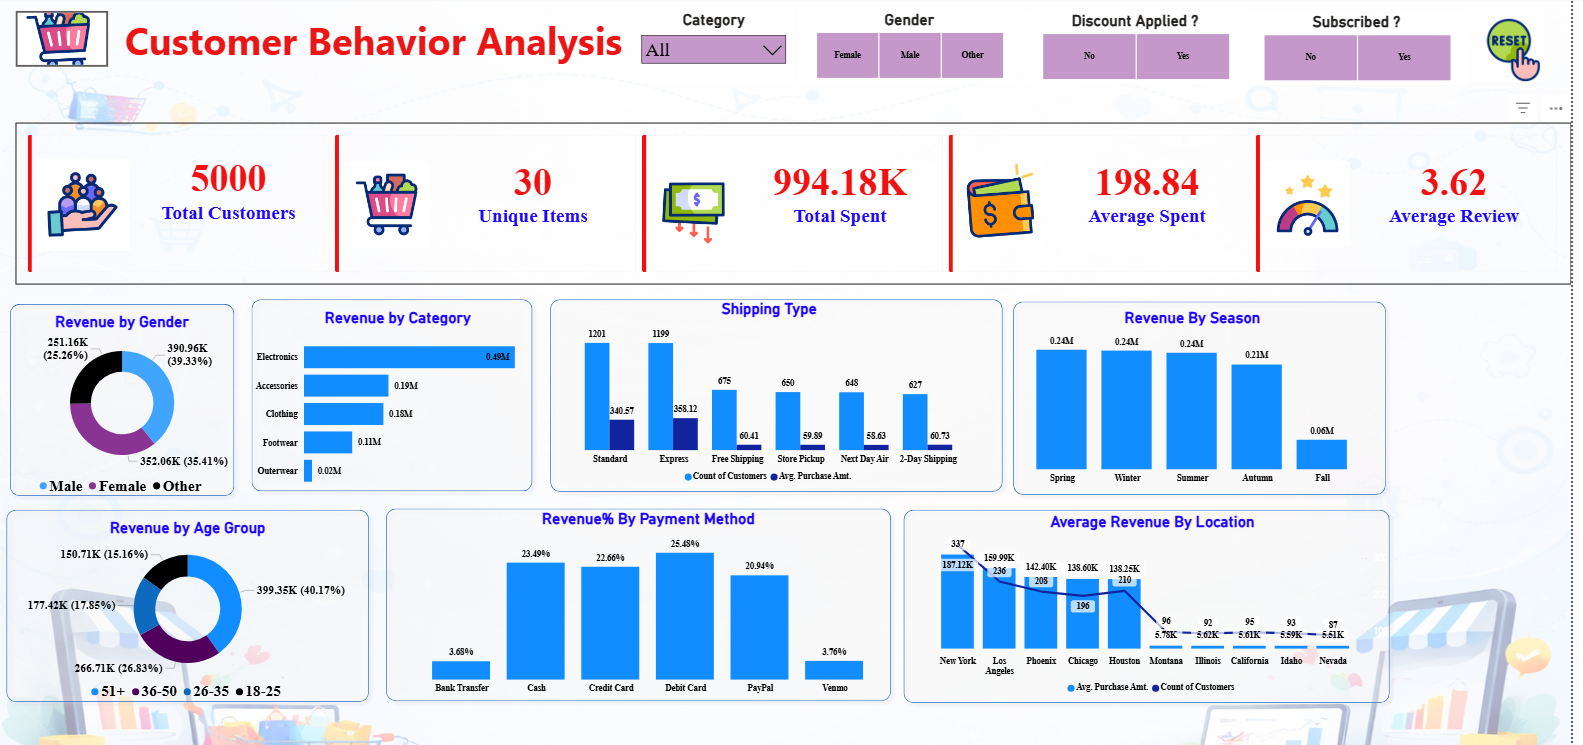

The page's visual inventory and layout, read from the dashboard file:
{"tool":"powerbi","page":{"name":"Customer Analysis Revenue","canvas":[2200,1200],"ordinal":0},"visuals":[{"type":"cardVisual","fields":{"Data":["retail_cleaned.Total Customers","retail_cleaned.Unique Items","retail_cleaned.Total_Spent","retail_cleaned.Average_Spent","retail_cleaned.Average_Review"]},"box":[21.4,171.4,2178.6,227.1],"z":0},{"type":"shape","box":[762,409.6,651.5,287.7],"z":0,"group":"g3"},{"type":"shape","box":[342.9,409.7,411.2,287],"z":0,"group":"g2"},{"type":"shape","box":[5,416.7,332,287],"z":0,"group":"g1"},{"type":"shape","box":[531.5,703,725.2,287.7],"z":0,"group":"g7"},{"type":"shape","box":[1257.3,704.9,698.6,288.6],"z":0,"group":"g8"},{"type":"shape","box":[0,705,525.7,287.1],"z":0,"group":"g6"},{"type":"group","id":"g1","title":"Group 1","box":[5,416.7,331.7,288.3],"z":1000},{"type":"group","id":"g2","title":"Group 2","box":[342.9,409.7,420,287],"z":2000},{"type":"clusteredColumnChart","title":"Shipping Type","fields":{"Category":["retail_cleaned.shipping_type"],"Y":["Count(retail_cleaned.customer_id)","Avg(retail_cleaned.purchase_amount)"]},"box":[778.6,419.6,598,266.4],"z":2000,"group":"g3"},{"type":"donutChart","title":"Revenue by Gender","fields":{"Category":["retail_cleaned.gender"],"Y":["Sum(retail_cleaned.purchase_amount)"]},"box":[5,438.7,332,265],"z":2000,"group":"g1"},{"type":"clusteredColumnChart","title":"Revenue% By Payment Method","fields":{"Category":["retail_cleaned.payment_method"],"Y":["Sum(retail_cleaned.purchase_amount)"]},"box":[557.7,713.6,699.6,266.4],"z":2000,"group":"g7"},{"type":"lineClusteredColumnComboChart","title":"Average Revenue By Location","fields":{"Category":["retail_cleaned.location"],"Y":["Sum(retail_cleaned.purchase_amount)"],"Y2":["CountNonNull(retail_cleaned.customer_id)"]},"box":[1281.9,718.5,665,264],"z":2000,"group":"g8"},{"type":"donutChart","title":"Revenue by Age Group","fields":{"Y":["Sum(retail_cleaned.purchase_amount)"],"Category":["retail_cleaned.Age_Group"]},"box":[0,727,525.7,265.1],"z":2000,"group":"g6"},{"type":"shape","box":[1409.7,413.4,540,288.6],"z":2500,"group":"g4"},{"type":"clusteredColumnChart","title":"Revenue By Season","fields":{"Category":["retail_cleaned.season"],"Y":["Sum(retail_cleaned.purchase_amount)"]},"box":[1409.7,431.7,520.3,253.5],"z":2750,"group":"g4"},{"type":"group","id":"g3","title":"Group 3","box":[762,409.6,651.5,287.7],"z":3000},{"type":"clusteredBarChart","title":"Revenue by Category","fields":{"Category":["retail_cleaned.category"],"Y":["Sum(retail_cleaned.purchase_amount)"]},"box":[351.7,431.7,411.2,265],"z":3000,"group":"g2"},{"type":"group","id":"g4","title":"Group 4","box":[1409.7,413.4,539.1,289.6],"z":4000},{"type":"group","id":"g5","title":"Group 1","box":[0,705,525,286.7],"z":5000},{"type":"group","id":"g6","title":"Group 5","box":[0,705,525.7,287.1],"z":5001,"group":"g5"},{"type":"group","id":"g7","title":"Group 3","box":[531.5,703,725.8,287.7],"z":6000},{"type":"group","id":"g8","title":"Group 3","box":[1257.3,704.9,697.2,289.6],"z":7000},{"type":"textbox","box":[170,15.7,724.3,124.3],"z":8000},{"type":"actionButton","box":[21.4,15.7,130,78.6],"z":9000},{"type":"slicer","title":"Category","fields":{"Values":["retail_cleaned.category"]},"box":[887.8,15.2,222.9,101],"z":10000},{"type":"slicer","title":"Gender","fields":{"Values":["retail_cleaned.gender"]},"box":[1118.3,15.2,310.5,101],"z":11000},{"type":"slicer","title":"Discount Applied ?","fields":{"Values":["retail_cleaned.discount_applied"]},"box":[1434.5,17.1,310.5,101],"z":12000},{"type":"slicer","title":"Subscribed ?","fields":{"Values":["retail_cleaned.subscription_status"]},"box":[1745,19.1,310.5,101],"z":13000},{"type":"actionButton","box":[2063.3,25,100,90],"z":14000}]}

Visuals, with their boxes on the page's 2200x1200 design canvas (x1, y1, x2, y2). These are canvas units, not pixel positions in the 1583x745 screenshot, which may show the page scaled, cropped or inside an application window:
cardVisual - retail_cleaned.Total Customers x retail_cleaned.Unique Items: detection(21, 171, 2200, 398)
shape: detection(762, 410, 1414, 697)
shape: detection(343, 410, 754, 697)
shape: detection(5, 417, 337, 704)
shape: detection(532, 703, 1257, 991)
shape: detection(1257, 705, 1956, 994)
shape: detection(0, 705, 526, 992)
"Group 1" group: detection(5, 417, 337, 705)
"Group 2" group: detection(343, 410, 763, 697)
"Shipping Type" clusteredColumnChart: detection(779, 420, 1377, 686)
"Revenue by Gender" donutChart: detection(5, 439, 337, 704)
"Revenue% By Payment Method" clusteredColumnChart: detection(558, 714, 1257, 980)
"Average Revenue By Location" lineClusteredColumnComboChart: detection(1282, 718, 1947, 982)
"Revenue by Age Group" donutChart: detection(0, 727, 526, 992)
shape: detection(1410, 413, 1950, 702)
"Revenue By Season" clusteredColumnChart: detection(1410, 432, 1930, 685)
"Group 3" group: detection(762, 410, 1414, 697)
"Revenue by Category" clusteredBarChart: detection(352, 432, 763, 697)
"Group 4" group: detection(1410, 413, 1949, 703)
"Group 1" group: detection(0, 705, 525, 992)
"Group 5" group: detection(0, 705, 526, 992)
"Group 3" group: detection(532, 703, 1257, 991)
"Group 3" group: detection(1257, 705, 1954, 994)
textbox: detection(170, 16, 894, 140)
actionButton: detection(21, 16, 151, 94)
"Category" slicer: detection(888, 15, 1111, 116)
"Gender" slicer: detection(1118, 15, 1429, 116)
"Discount Applied ?" slicer: detection(1434, 17, 1745, 118)
"Subscribed ?" slicer: detection(1745, 19, 2056, 120)
actionButton: detection(2063, 25, 2163, 115)
